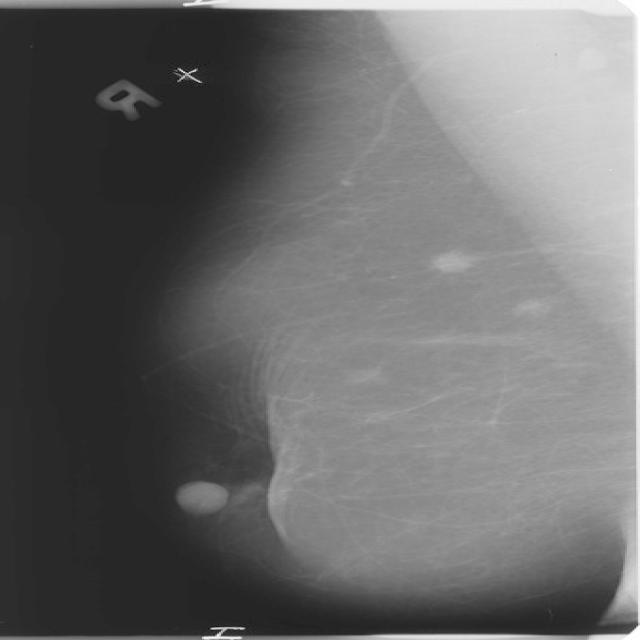tumour: (430, 248, 472, 272)
